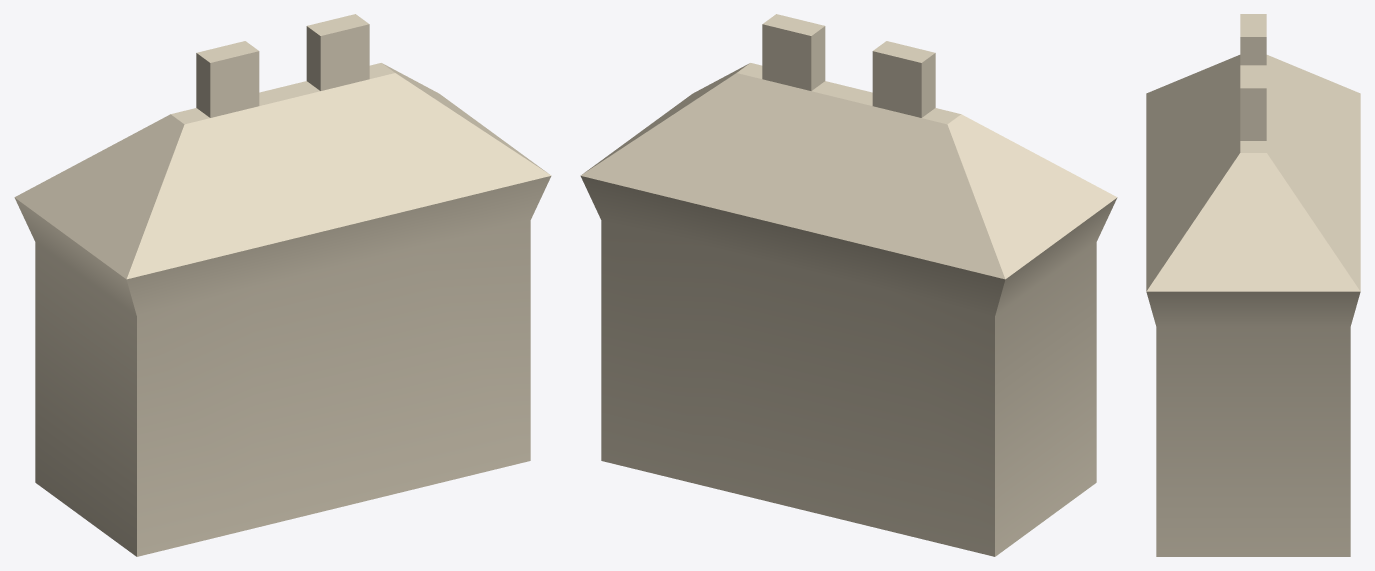
Rendered from SM_Queens_Gate.fbx.
The picture shows the model from 3 angles, left to right: view 1: azimuth 30°, elevation 25°; view 2: azimuth 150°, elevation 25°; view 3: azimuth 270°, elevation 25°; orthographic projection. The views are drawn at different scales.
Visible parts, largest first — view 1: SM_Queens_Gate; view 2: SM_Queens_Gate; view 3: SM_Queens_Gate.
Boxes of the visible parts, box(x1,y1,x2,y2) form: SM_Queens_Gate: box(14, 14, 551, 556); SM_Queens_Gate: box(580, 14, 1117, 556); SM_Queens_Gate: box(1146, 14, 1360, 556).
Size of the model in its own units: 25.95 by 25.27 by 11.86.
